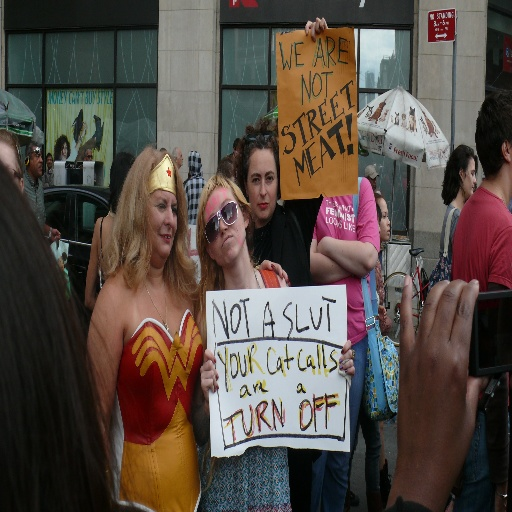hand: (389, 262, 487, 503), (200, 347, 219, 403), (257, 257, 289, 280), (338, 336, 354, 380), (303, 17, 328, 43), (377, 304, 387, 321), (79, 121, 89, 137), (49, 228, 61, 241)
